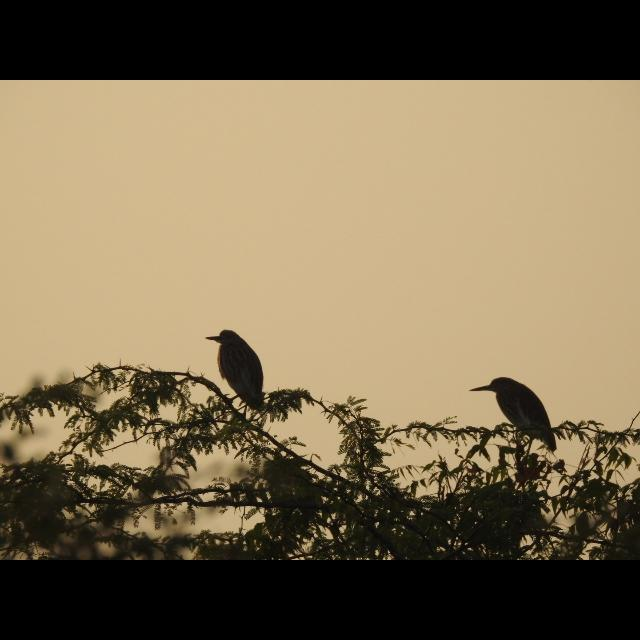heron: (472, 372, 558, 458), (205, 323, 269, 409)
